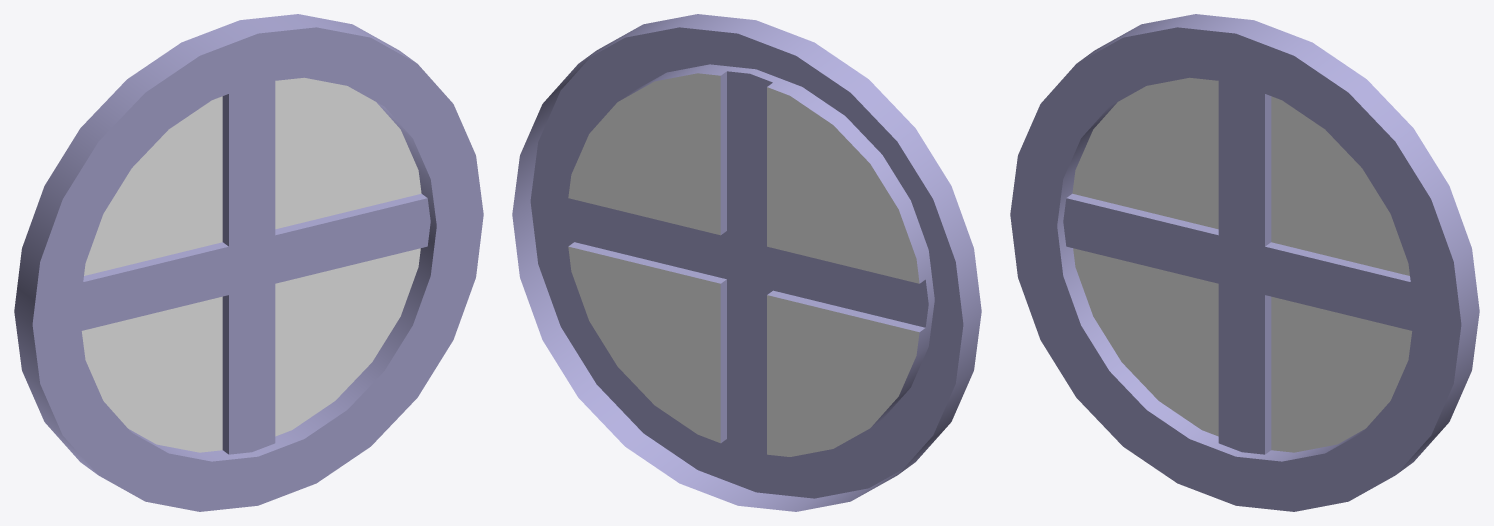
Rendered from window6.obj.
3 views of the same model, side by side, from view 1: azimuth 30°, elevation 25°; view 2: azimuth 150°, elevation 25°; view 3: azimuth 330°, elevation 25° (orthographic).
Visible parts, largest first — view 1: mergedBlocks; view 2: mergedBlocks; view 3: mergedBlocks.
Part boxes in pixels (box(x1,y1,x2,y2)): mergedBlocks: box(14, 14, 483, 511); mergedBlocks: box(512, 14, 981, 511); mergedBlocks: box(1010, 14, 1479, 511).
Size of the model in its own units: 0.4277 by 0.4277 by 0.03.
